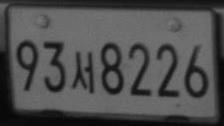2: (155, 42, 180, 97), (128, 42, 151, 96)
3: (42, 41, 65, 92)
6: (183, 44, 209, 98)
8: (99, 42, 124, 95)
9: (15, 39, 38, 90)
서: (72, 51, 95, 93)
